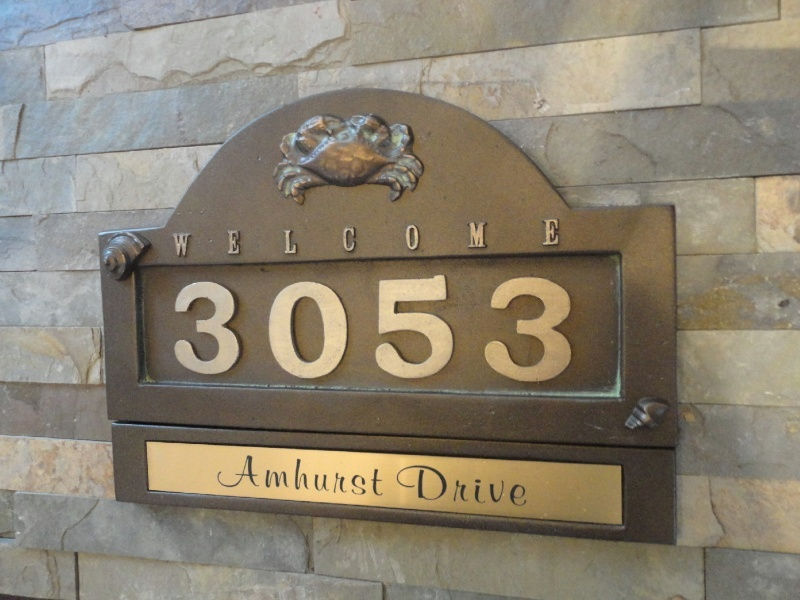text: (177, 274, 192, 385), (193, 274, 208, 385), (209, 274, 224, 385), (225, 274, 240, 385), (241, 274, 256, 385), (257, 274, 272, 385), (273, 274, 288, 385), (289, 274, 304, 385), (305, 274, 320, 385), (321, 274, 336, 385), (337, 274, 352, 385), (353, 274, 368, 385), (369, 274, 384, 385), (385, 274, 400, 385), (401, 274, 416, 385), (417, 274, 432, 385), (433, 274, 448, 385), (449, 274, 464, 385), (465, 274, 480, 385), (481, 274, 496, 385), (497, 274, 512, 385), (513, 274, 528, 385), (529, 274, 544, 385), (545, 274, 560, 385), (561, 274, 575, 385), (225, 451, 240, 500), (241, 451, 256, 500), (257, 451, 272, 500), (273, 451, 288, 500), (289, 451, 304, 500), (305, 451, 320, 500), (321, 451, 336, 500), (337, 451, 352, 500), (353, 451, 368, 500), (369, 451, 384, 500), (401, 462, 416, 511), (417, 462, 432, 511), (433, 462, 448, 511), (449, 462, 464, 511), (465, 462, 480, 511), (481, 462, 496, 511), (497, 462, 512, 511), (513, 462, 528, 511), (177, 218, 192, 258), (193, 218, 208, 258), (209, 218, 224, 258), (225, 218, 240, 258), (241, 218, 256, 258), (257, 218, 272, 258), (273, 218, 288, 258), (289, 218, 304, 258), (305, 218, 320, 258), (321, 218, 336, 258), (337, 218, 352, 258), (353, 218, 368, 258), (369, 218, 384, 258), (385, 218, 400, 258), (401, 218, 416, 258), (417, 218, 432, 258), (433, 218, 448, 258), (449, 218, 464, 258), (465, 218, 480, 258), (481, 218, 496, 258), (497, 218, 512, 258), (513, 218, 528, 258), (529, 218, 544, 258), (545, 218, 560, 258), (217, 451, 224, 500), (529, 462, 533, 511), (173, 218, 176, 258), (175, 274, 176, 385), (398, 462, 400, 511), (385, 451, 386, 500), (561, 218, 562, 258)
